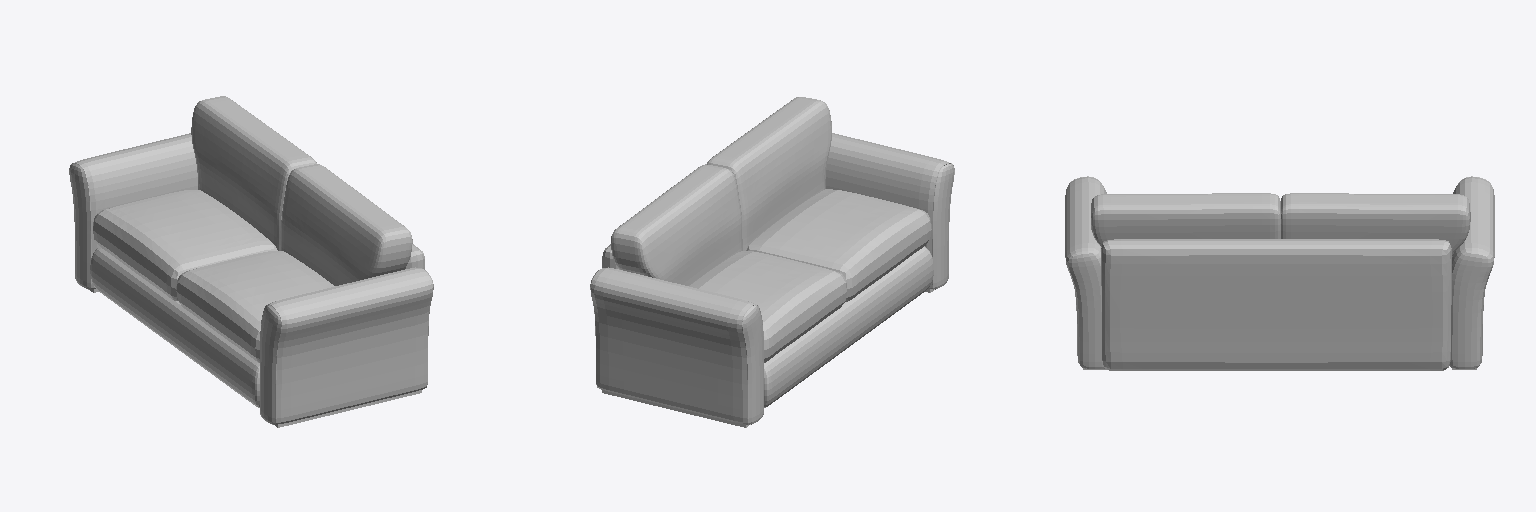
File: sofa.obj
3 views of the same model, side by side, from view 1: azimuth 30°, elevation 25°; view 2: azimuth 150°, elevation 25°; view 3: azimuth 270°, elevation 25° (orthographic).
Visible parts, largest first — view 1: sofa_Cube.014; view 2: sofa_Cube.014; view 3: sofa_Cube.014.
Part boxes in pixels (x1,y1,x2,y2): sofa_Cube.014: (69,96,433,427); sofa_Cube.014: (590,97,954,427); sofa_Cube.014: (1065,176,1494,370).
Bounding box in the file's own units: 1.46 × 1.35 × 3.22.